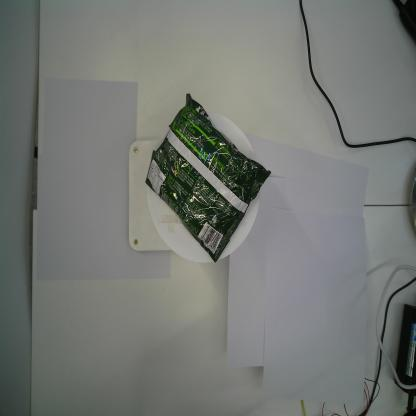Instant Noodles: (145, 90, 272, 264)
